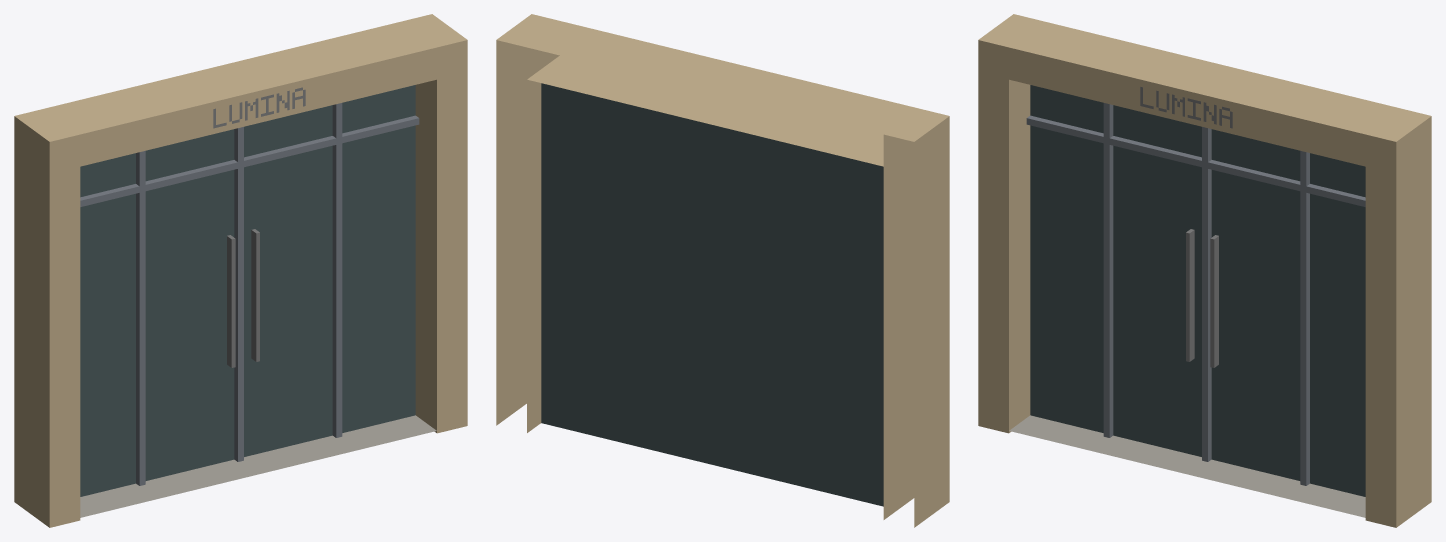
Rendered from entrance_close.fbx.
The picture shows the model from 3 angles, left to right: view 1: azimuth 30°, elevation 25°; view 2: azimuth 150°, elevation 25°; view 3: azimuth 330°, elevation 25°; orthographic projection.
Visible parts, largest first — view 1: a2006/750/entrance_close; view 2: a2006/750/entrance_close; view 3: a2006/750/entrance_close.
Boxes of the visible parts, x1=… form: a2006/750/entrance_close: x1=14, y1=14, x2=467, y2=527; a2006/750/entrance_close: x1=496, y1=14, x2=949, y2=527; a2006/750/entrance_close: x1=978, y1=14, x2=1431, y2=527.
Bounding box in the file's own units: 3.4 × 3 × 0.511.
